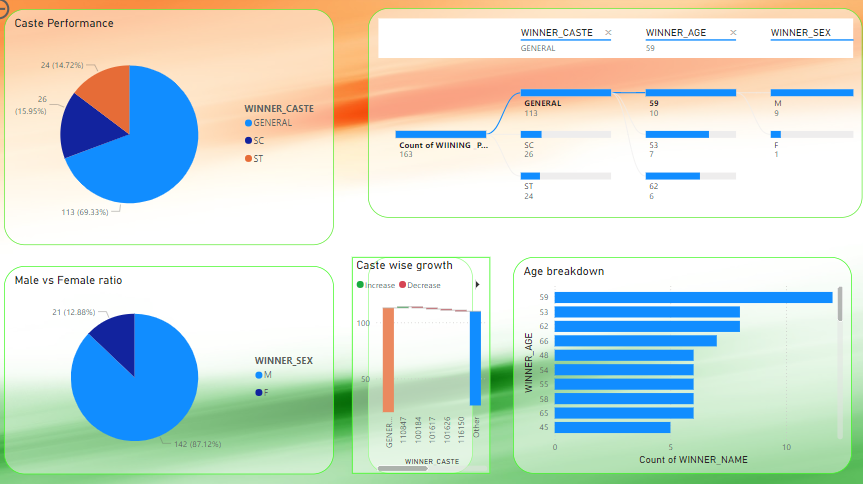

What the dashboard file says about the page in this screenshot:
{"tool":"powerbi","page":{"name":"Page 2","canvas":[1280,720],"ordinal":1},"visuals":[{"type":"image","box":[10,0,1270,720],"z":0},{"type":"pieChart","title":"Caste Performance","fields":{"Y":["CountNonNull(Worksheet.CONST)"],"Category":["Worksheet.WINNER_CASTE"]},"box":[26.7,20,475,340],"z":1000},{"type":"pieChart","title":"Male vs Female ratio","fields":{"Y":["CountNonNull(Worksheet.CONST)"],"Category":["Worksheet.WINNER_SEX"]},"box":[26.7,390,475,300],"z":2000},{"type":"actionButton","box":[0,0,100,40],"z":3000},{"type":"barChart","title":"Age breakdown","fields":{"Category":["Worksheet.WINNER_AGE"],"Y":["CountNonNull(Worksheet.WINNER_NAME)"]},"box":[760.3,377.3,488.2,312.5],"z":4000},{"type":"decompositionTreeVisual","fields":{"Analyze":["CountNonNull(Worksheet.WIINING _PARTY)"],"ExplainBy":["Worksheet.WINNER_CASTE","Worksheet.WINNER_AGE","Worksheet.WINNER_SEX"]},"box":[551.7,18.3,711.7,301.7],"z":5000},{"type":"textbox","box":[551.5,377.3,151.2,312.5],"z":5001},{"type":"waterfallChart","title":"Caste wise growth","fields":{"Breakdown":["Worksheet.LOSER VOTES"],"Y":["CountNonNull(Worksheet.WINNER_VOTES)"],"Category":["Worksheet.WINNER_CASTE"]},"box":[528.5,377.3,198.7,312.5],"z":5002}]}

Visuals, with their boxes in screenshot pixels (x1, y1, x2, y2), scaled from the page's 1280x720 canvas onto the 863x484 screenshot:
image: l=7, t=0, r=862, b=483
"Caste Performance" pieChart: l=18, t=13, r=338, b=242
"Male vs Female ratio" pieChart: l=18, t=262, r=338, b=464
actionButton: l=0, t=0, r=67, b=27
"Age breakdown" barChart: l=513, t=254, r=842, b=464
decompositionTreeVisual - CountNonNull(Worksheet.WIINING _PARTY) x Worksheet.WINNER_CASTE: l=372, t=12, r=852, b=215
textbox: l=372, t=254, r=474, b=464
"Caste wise growth" waterfallChart: l=356, t=254, r=490, b=464
